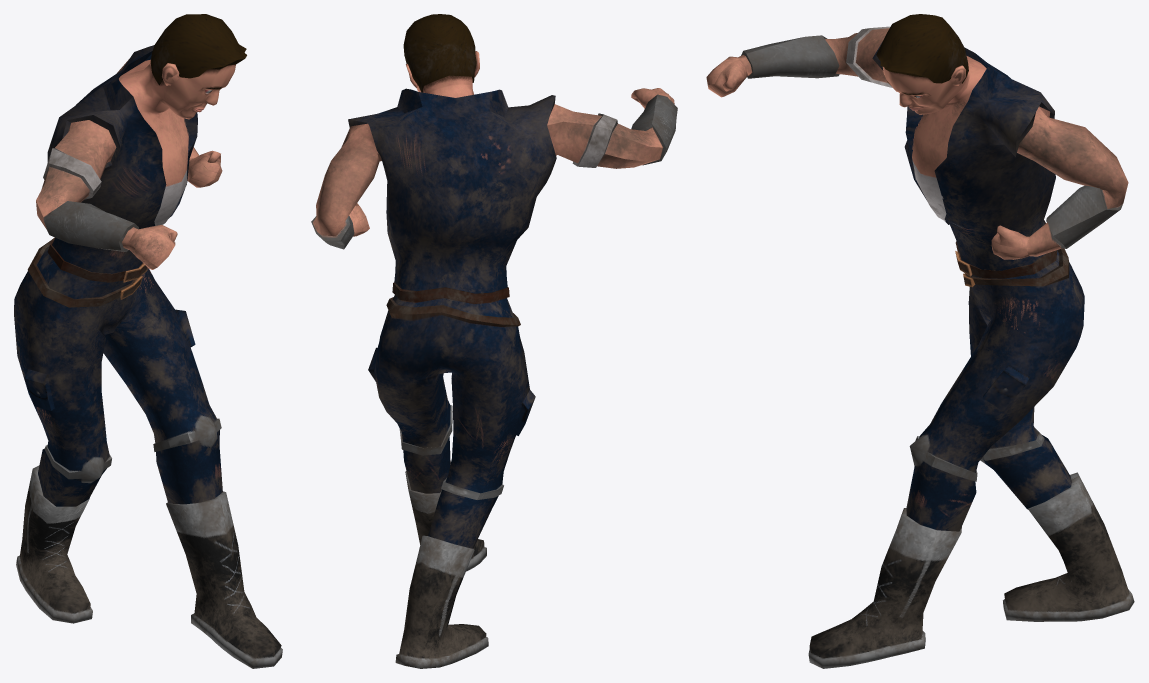
File: Anim_ataque_d1_jugador.0023.obj
The picture shows the model from 3 angles, left to right: view 1: azimuth 30°, elevation 25°; view 2: azimuth 150°, elevation 25°; view 3: azimuth 270°, elevation 25°; orthographic projection. The views are drawn at different scales.
Parts seen in each view (by area): view 1: polySurface1; view 2: polySurface1; view 3: polySurface1.
Part boxes in pixels (box(x1,y1,x2,y2)): polySurface1: box(14, 14, 282, 668); polySurface1: box(311, 14, 677, 668); polySurface1: box(706, 14, 1134, 668).
Bounding box in the file's own units: 3.95 × 8.9 × 5.43.
